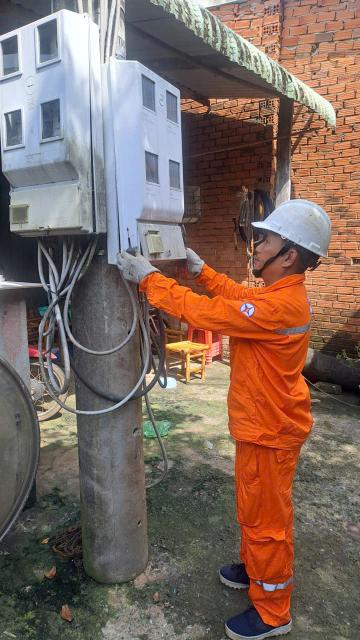gloves: (102, 239, 171, 297), (162, 233, 218, 283)
helmet: (227, 181, 341, 267)
shoes: (188, 601, 312, 639), (203, 541, 268, 594)
